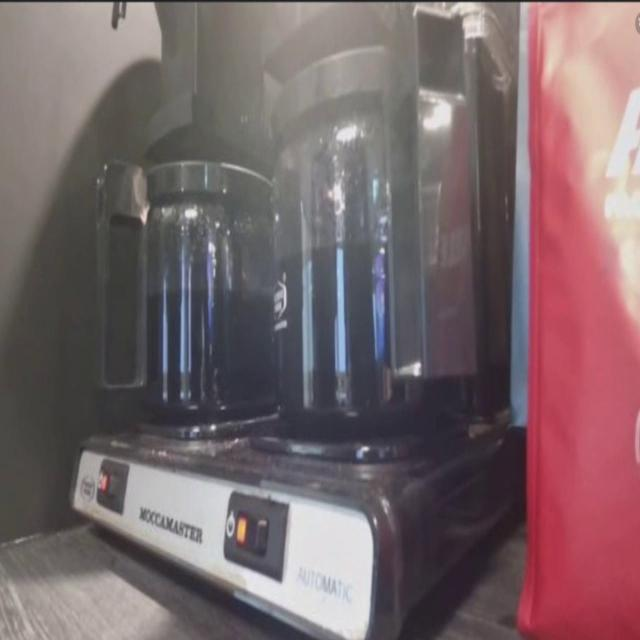coffee: (273, 166, 449, 430), (146, 220, 274, 416)
